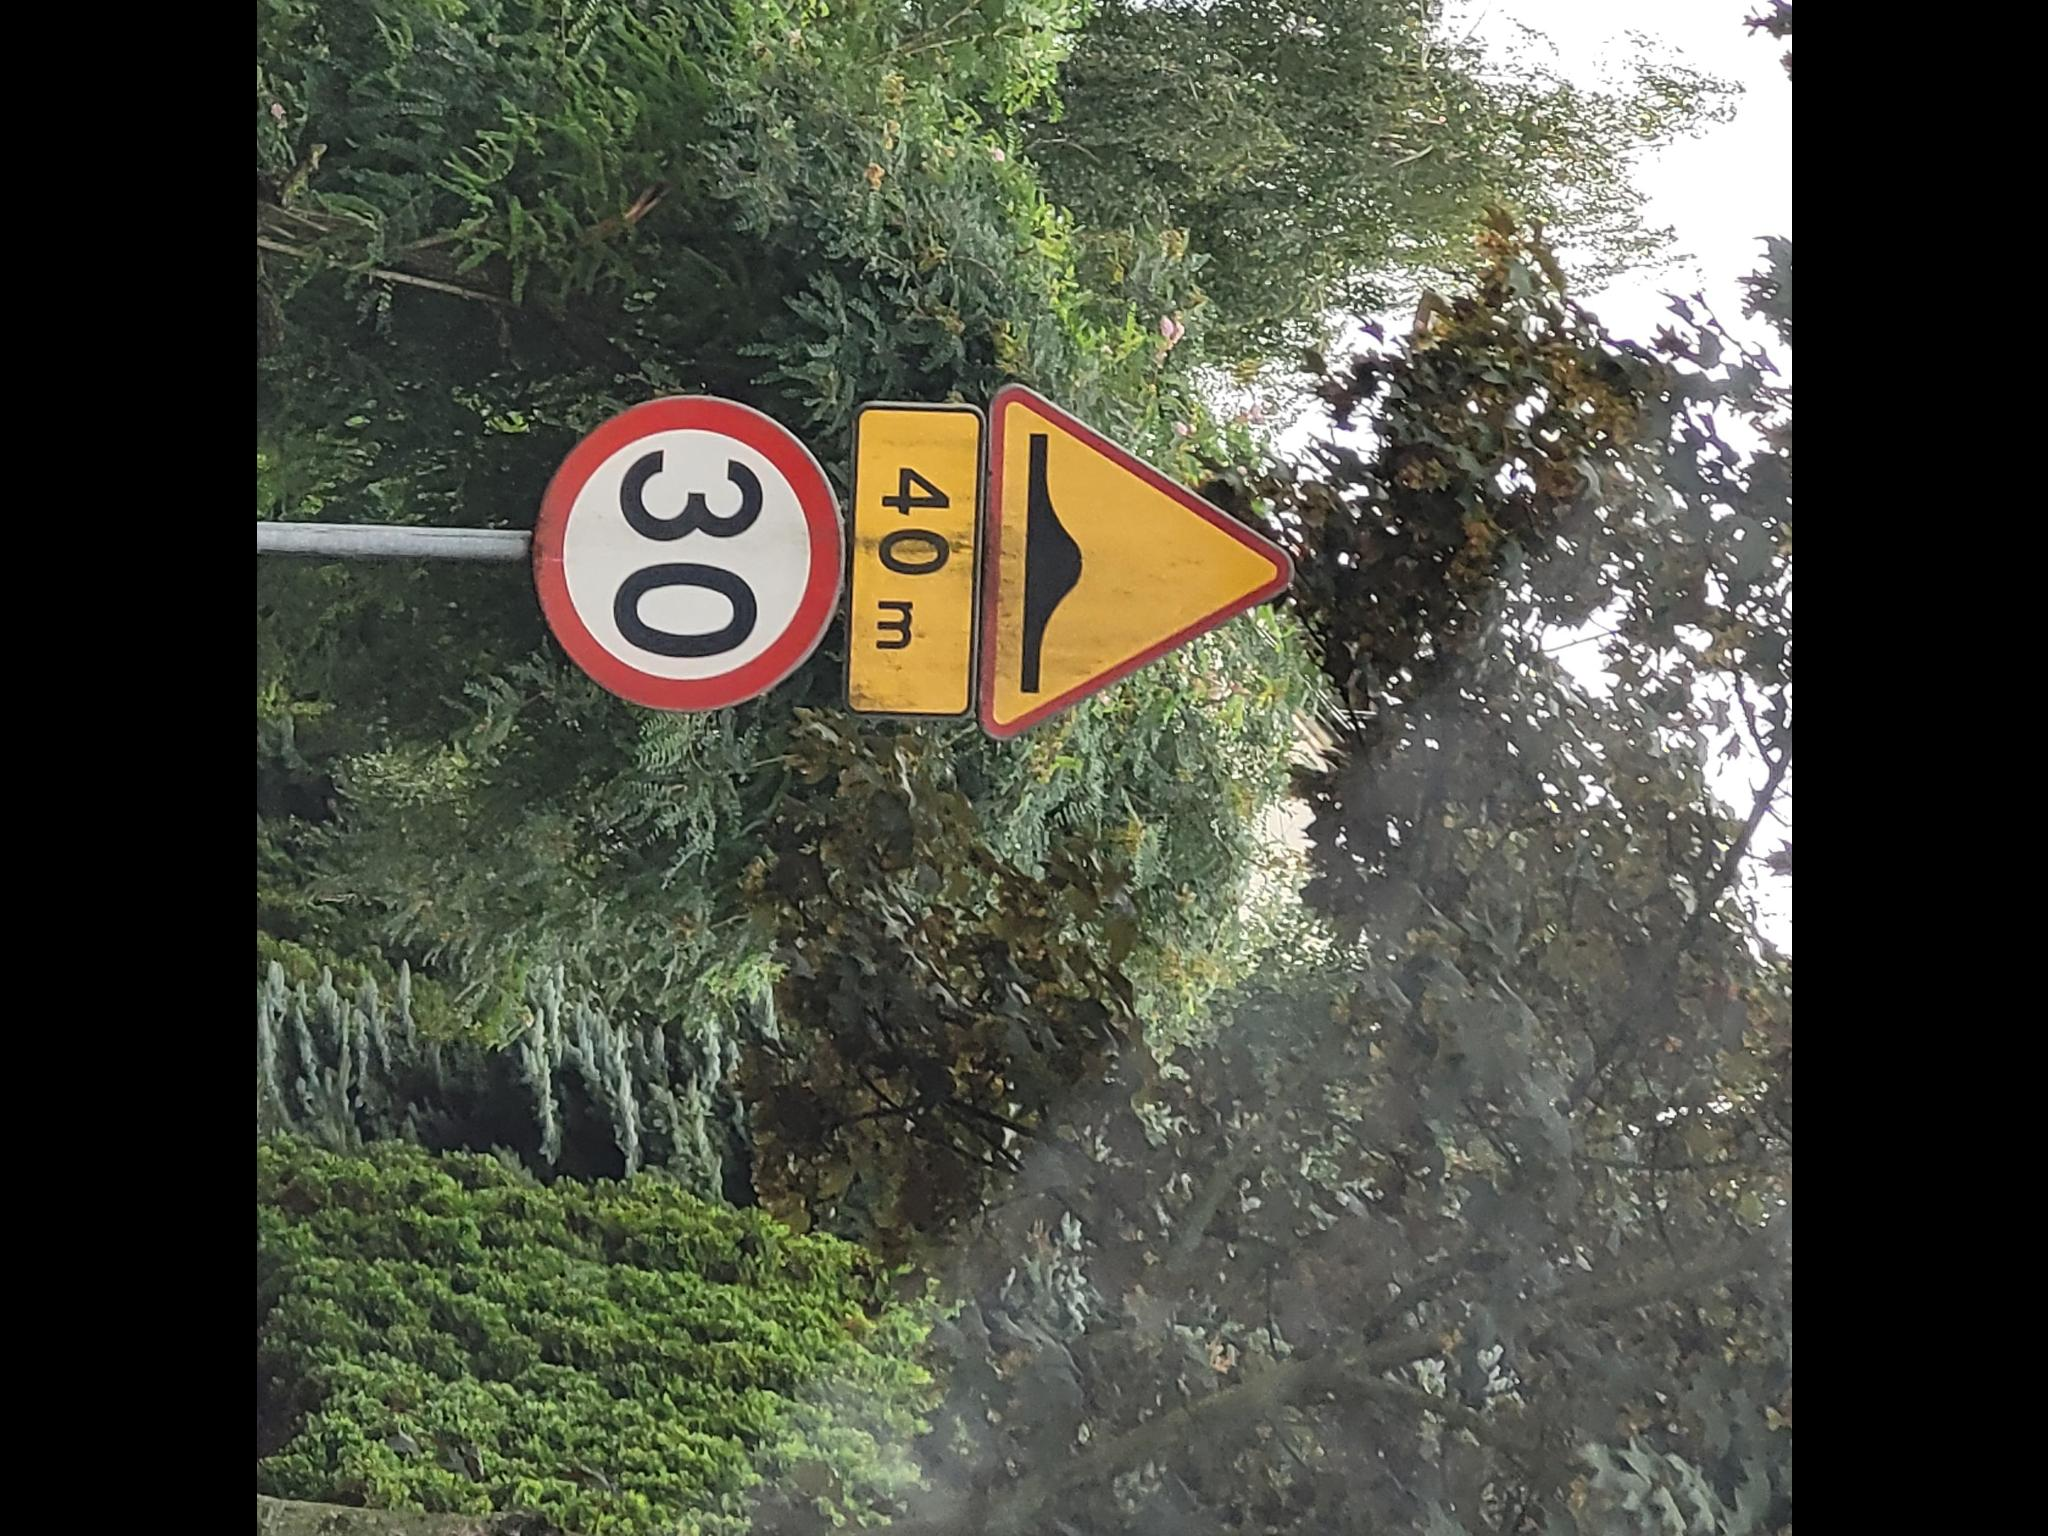other: (842, 400, 984, 716)
prohibitory: (527, 394, 845, 716)
warning: (974, 382, 1300, 741)
